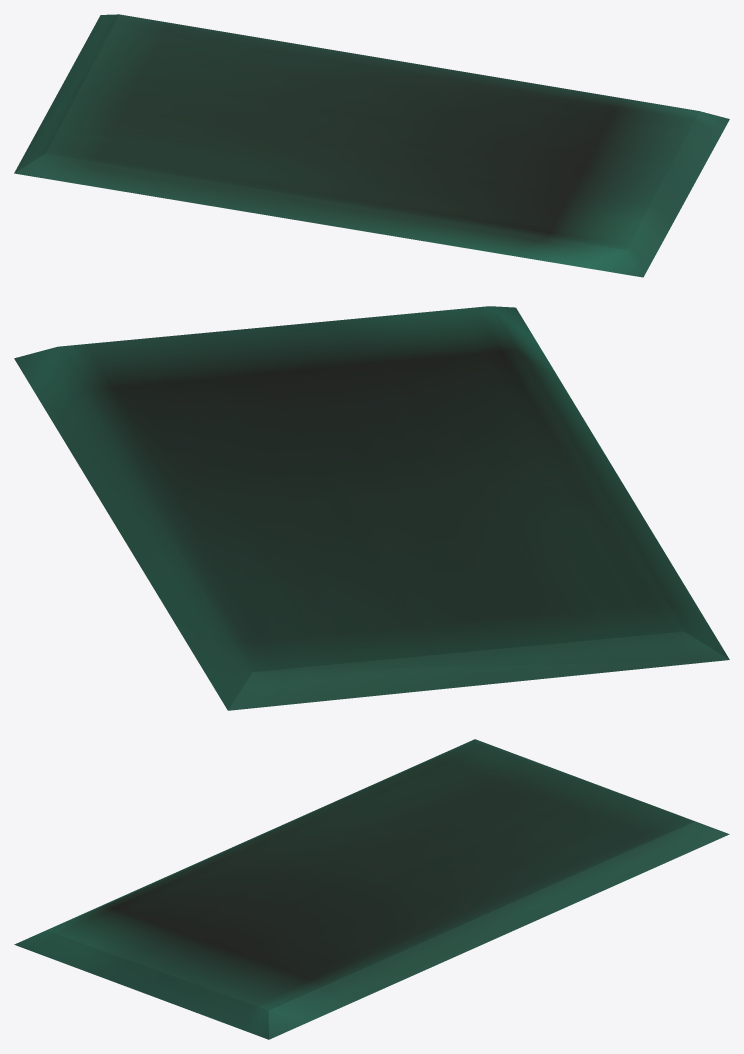
3 renders of one model, top to bottom at view 1: azimuth 30°, elevation 25°; view 2: azimuth 150°, elevation 25°; view 3: azimuth 270°, elevation 25°, orthographic. The views are drawn at different scales.
Parts seen in each view (by area): view 1: Box03; view 2: Box03; view 3: Box03.
Boxes of the visible parts, left/top/right/bottom form: Box03: left=14, top=14, right=729, bottom=277; Box03: left=14, top=306, right=729, bottom=710; Box03: left=14, top=739, right=729, bottom=1039.
Size of the model in its own units: 181 by 12.89 by 192.
Materials: 1 (1 with a texture image).
